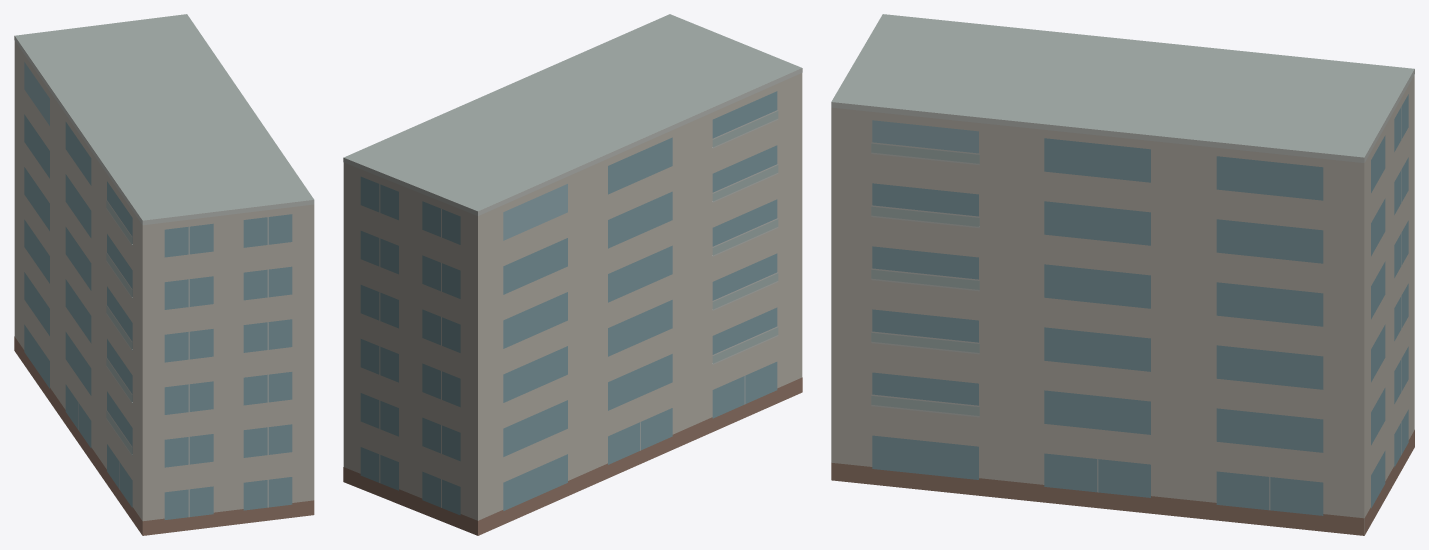
File: survey-upis-32538296.glb
3 views of the same model, side by side, from view 1: azimuth 30°, elevation 25°; view 2: azimuth 150°, elevation 25°; view 3: azimuth 270°, elevation 25° (orthographic). The views are drawn at different scales.
Parts seen in each view (by area): view 1: survey-upis-32538296.tmp; view 2: survey-upis-32538296.tmp; view 3: survey-upis-32538296.tmp.
Boxes of the visible parts, <box> form: survey-upis-32538296.tmp: <box>14,14,314,535</box>; survey-upis-32538296.tmp: <box>343,14,802,535</box>; survey-upis-32538296.tmp: <box>831,14,1414,535</box>.
Size of the model in its own units: 13.52 by 16.6 by 23.22.
